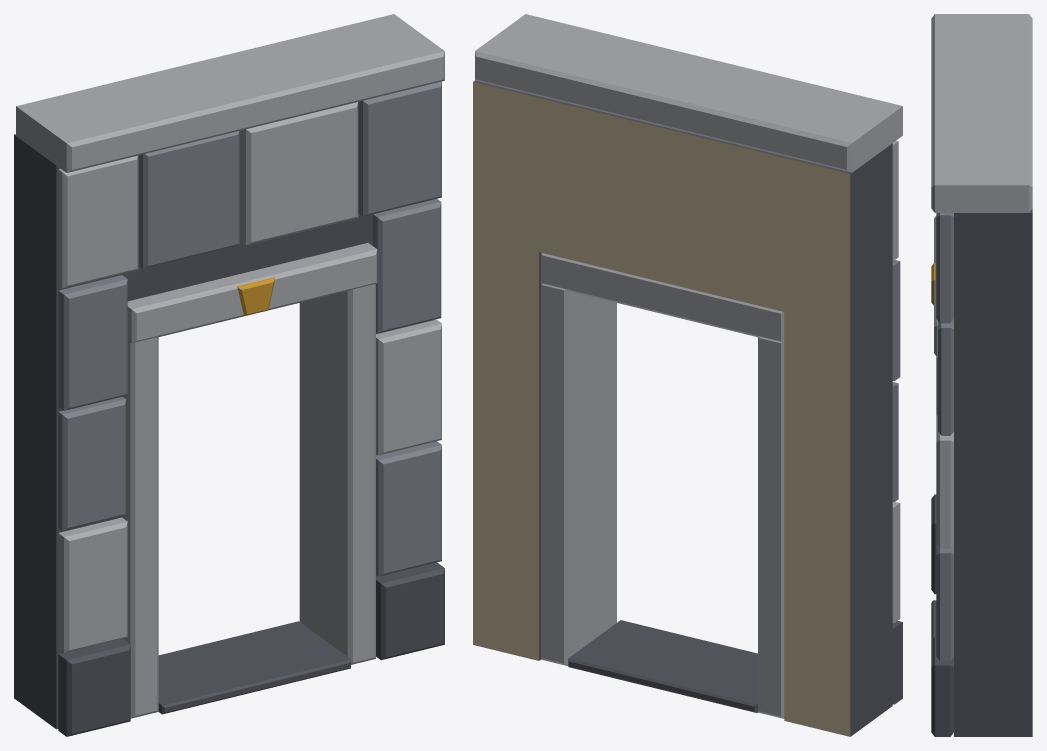
The model's file is WallDoor_05.glb.
3 views of the same model, side by side, from view 1: azimuth 30°, elevation 25°; view 2: azimuth 150°, elevation 25°; view 3: azimuth 270°, elevation 25° (orthographic). The views are drawn at different scales.
Parts seen in each view (by area): view 1: WallDoor_05; view 2: WallDoor_05; view 3: WallDoor_05.
Part boxes in pixels (x1=…): WallDoor_05: x1=14, y1=14, x2=444, y2=736; WallDoor_05: x1=473, y1=14, x2=902, y2=736; WallDoor_05: x1=931, y1=14, x2=1032, y2=736.
Size of the model in its own units: 8 by 12 by 2.
